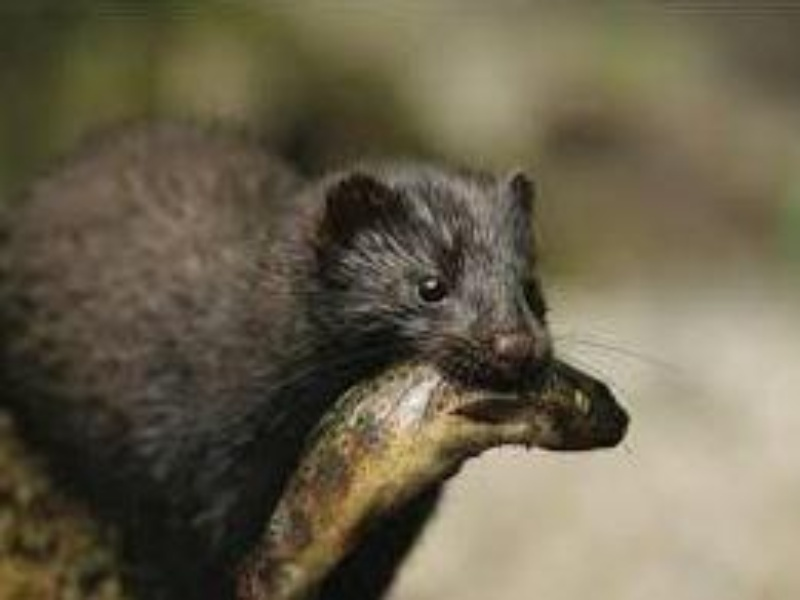minkish: (1, 106, 554, 572)
